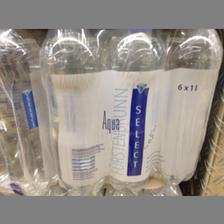water: (37, 29, 108, 194), (158, 29, 223, 185), (103, 29, 165, 191)
